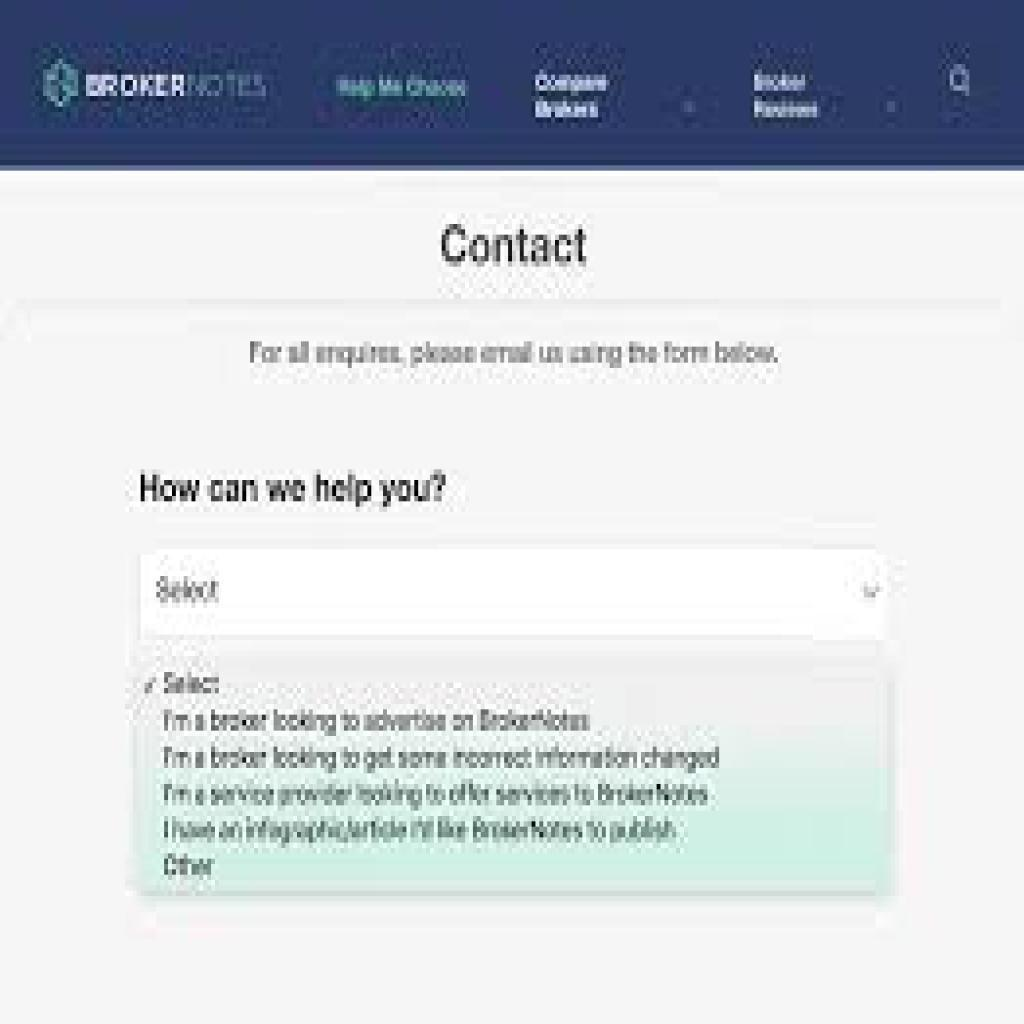dropdown: (139, 550, 891, 640)
icon: (940, 61, 980, 104)
label: (326, 69, 473, 104), (529, 66, 613, 126), (750, 68, 826, 123)
